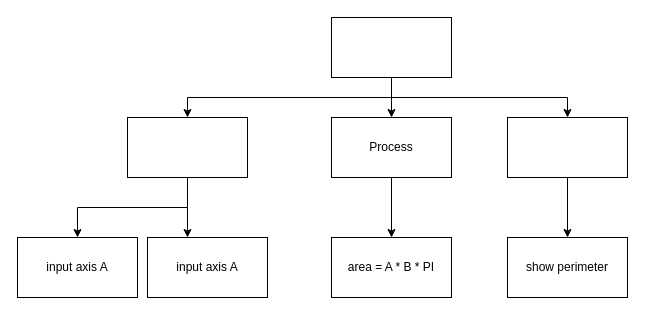
This 645x315 diagram has some shape labels left out. The centre of each missing label's shape, as x and y in pixels:
Area and Perimeter: the point at 391,47
Input: the point at 187,147
Output: the point at 567,147
